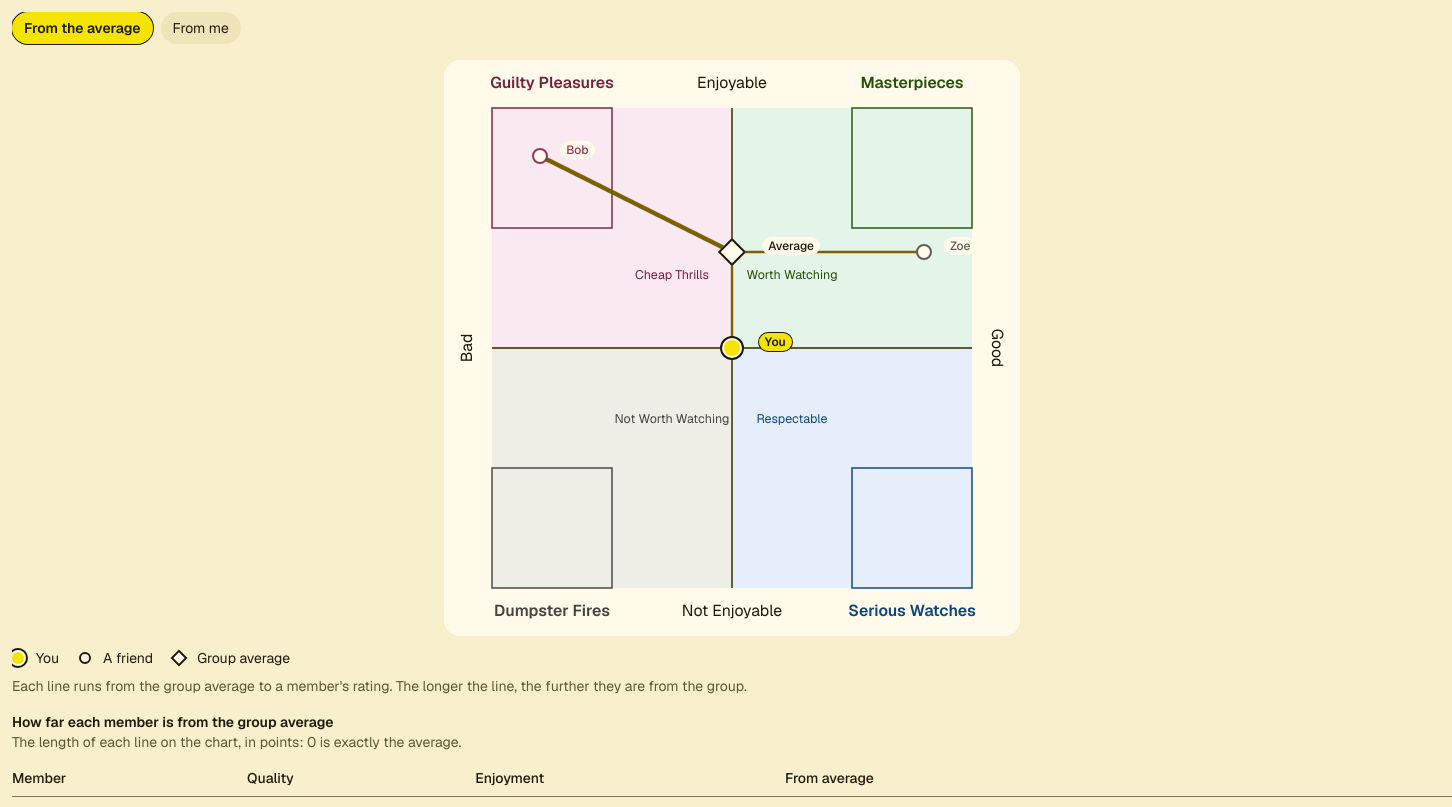
Test: SpokeMapSwitch (R97) › redraws the spokes from the viewer when 'From me' is pressed
The width and height of the screenshot is (1452, 807).
Later steps or results of the test are not shown.
Click the button "From me": {"x": 201, "y": 28} 161,12 -> 241,44
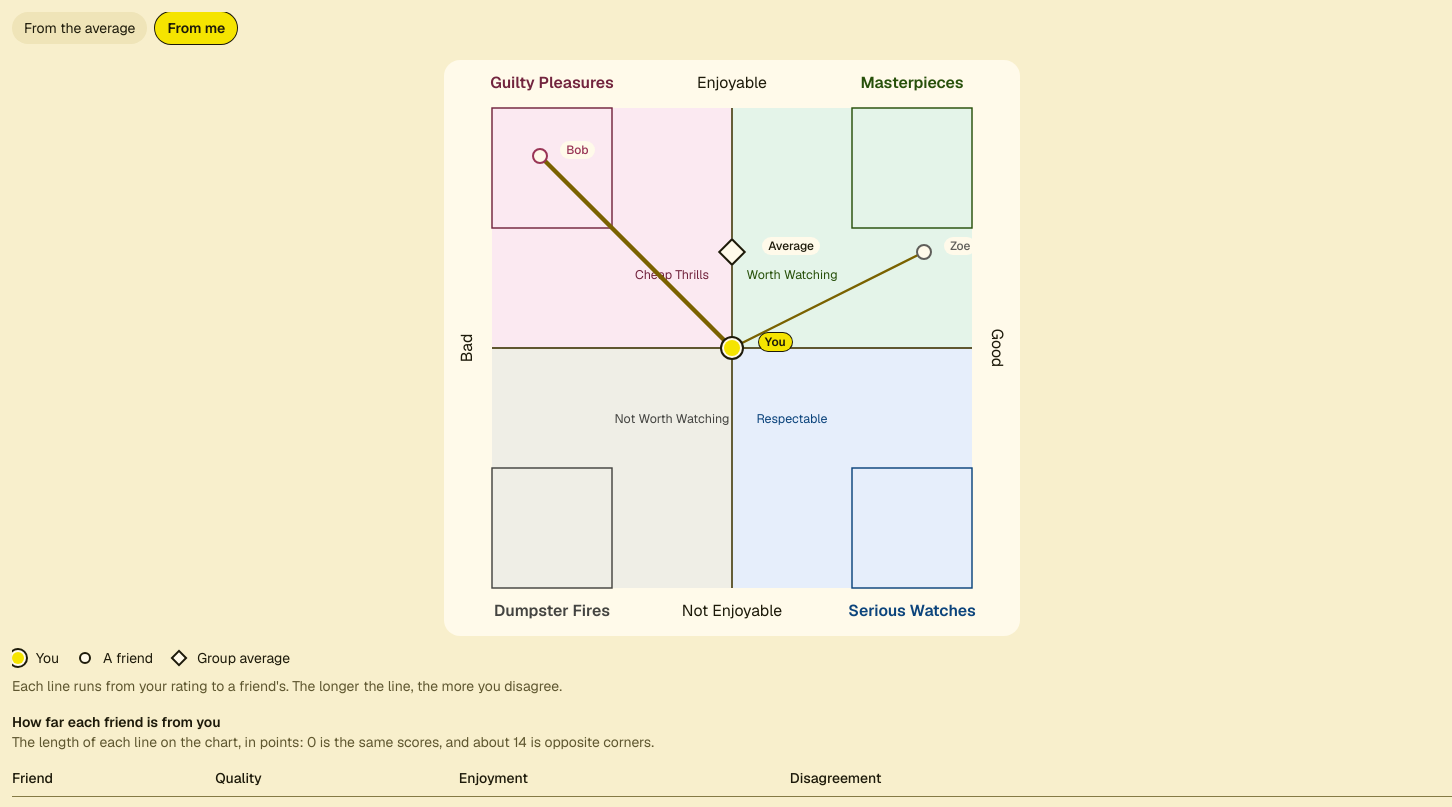
Expected: the button "From me" is pressed, 156,12 -> 237,44
